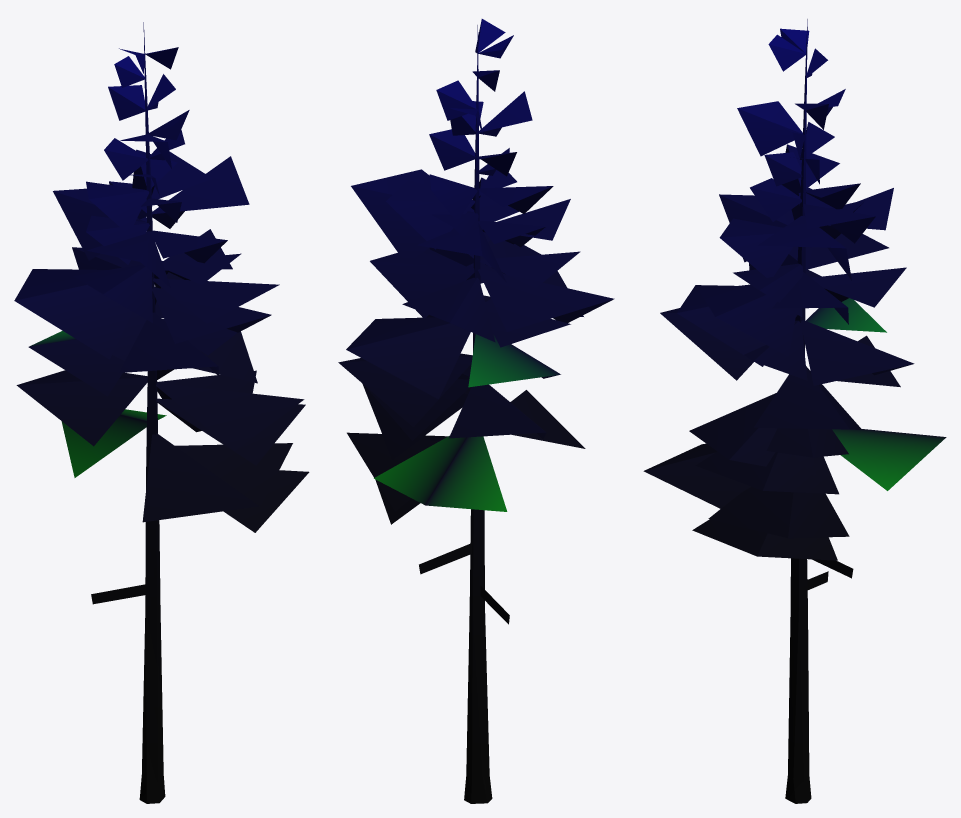
Rendered from Spruce alphatest.fbx.
3 views of the same model, side by side, from view 1: azimuth 30°, elevation 25°; view 2: azimuth 150°, elevation 25°; view 3: azimuth 270°, elevation 25° (orthographic).
Parts seen in each view (by area): view 1: Mesh; view 2: Mesh; view 3: Mesh.
Part boxes in pixels (box(x1,y1,x2,y2)): Mesh: box(14, 22, 309, 803); Mesh: box(338, 19, 614, 803); Mesh: box(643, 19, 946, 803).
Size of the model in its own units: 681 by 1863 by 655.
